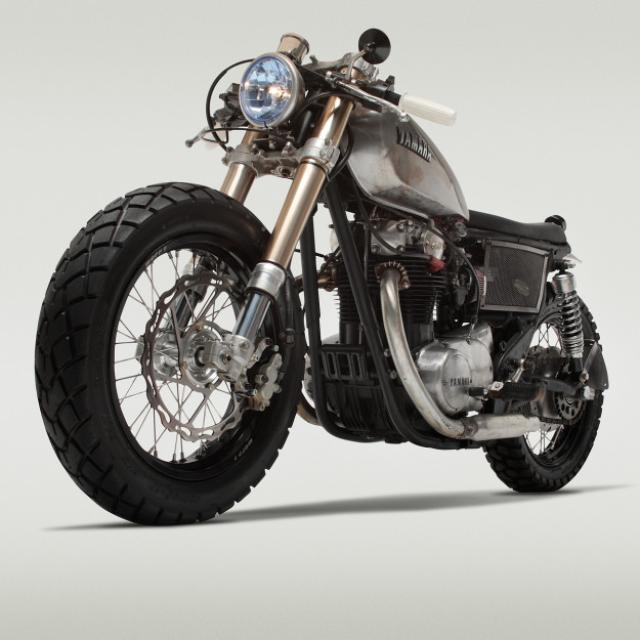motorcycle: (32, 26, 610, 526)
